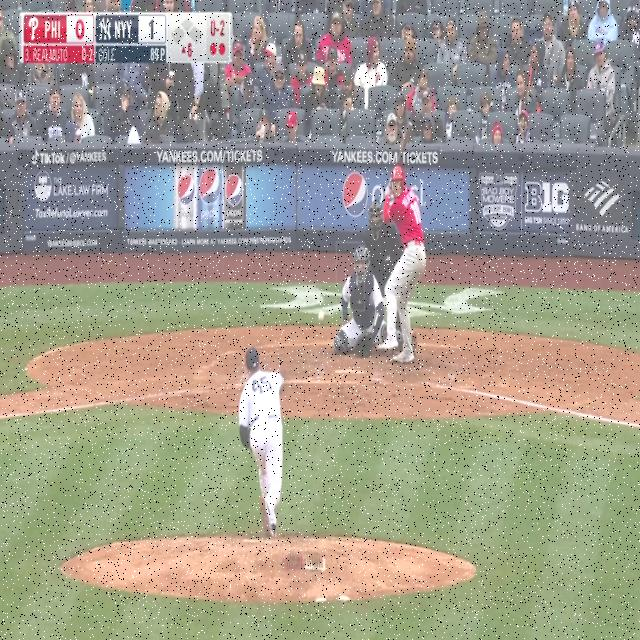baseball: (318, 311, 324, 321)
